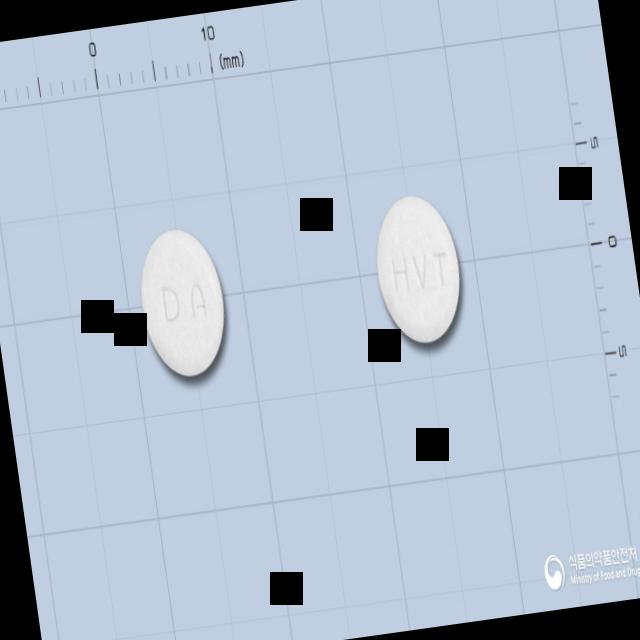Hepsevir: (130, 221, 234, 384), (366, 187, 468, 349)
